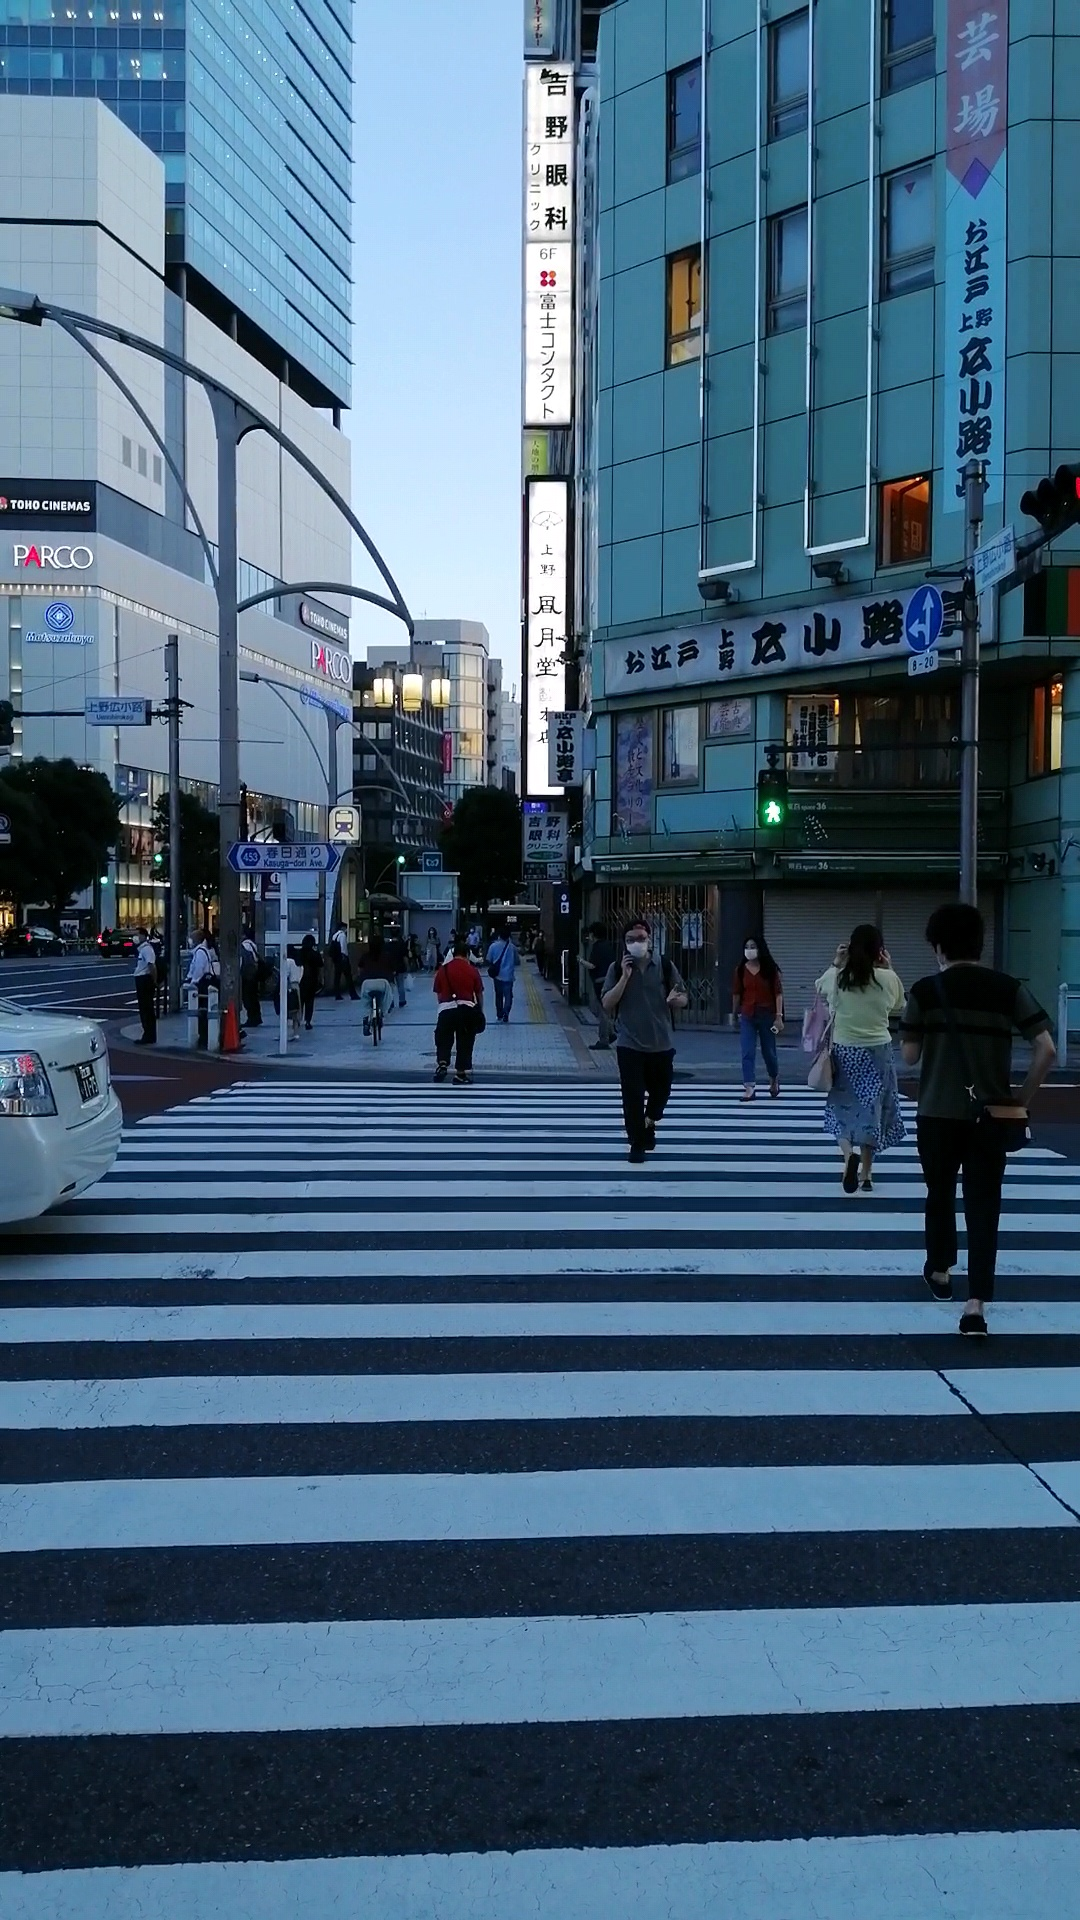green: (757, 767, 789, 829)
